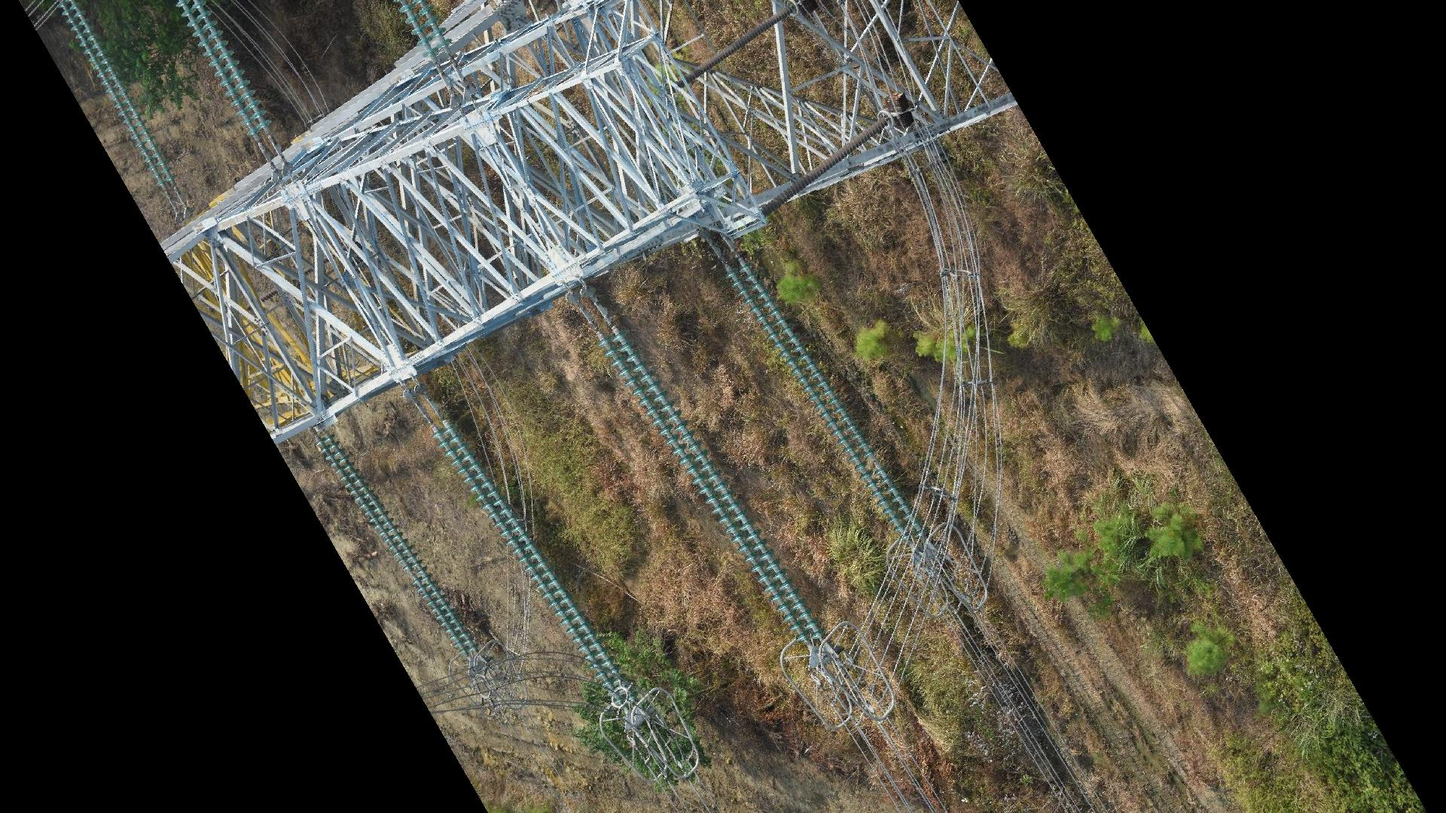insulator: (595, 327, 828, 648), (429, 422, 639, 711), (723, 260, 929, 544), (315, 431, 478, 658), (60, 1, 179, 191), (175, 1, 274, 141), (759, 114, 892, 216), (677, 4, 795, 89), (396, 1, 454, 60)
insulator_stringdrop: (862, 447, 891, 478), (402, 562, 425, 586)
